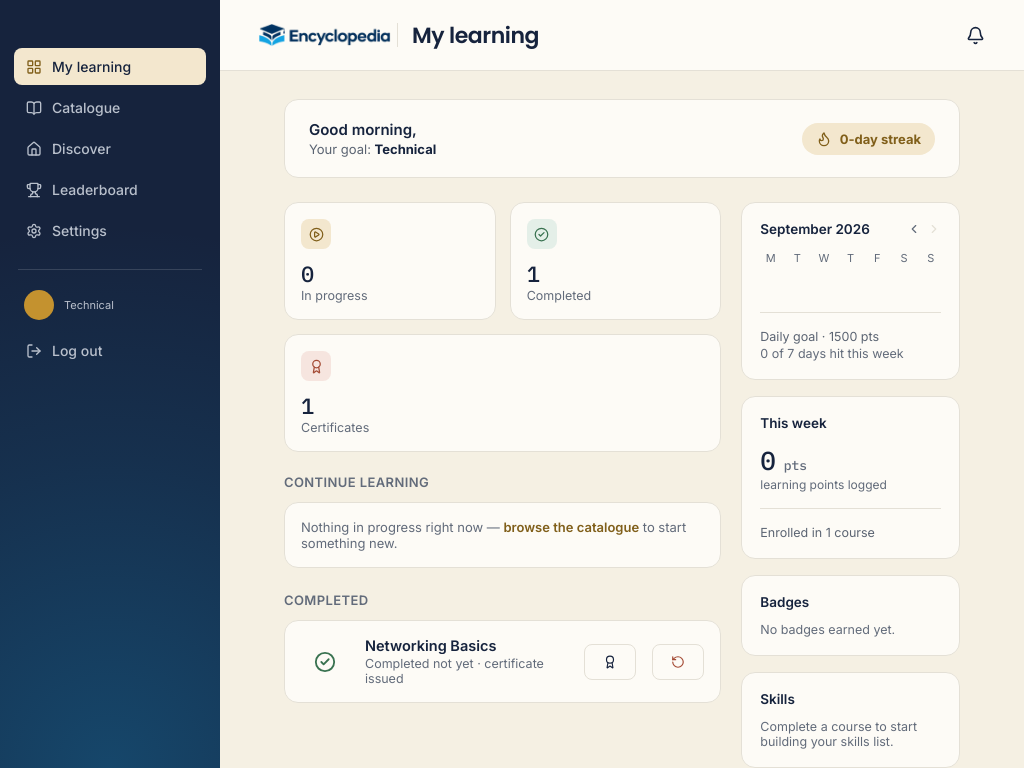
Test: App — retake handler (#300/#301) › surfaces the server's error message and leaves the dialog open on failure
Click the button named "Retake": (678, 662) [652, 644, 704, 680]
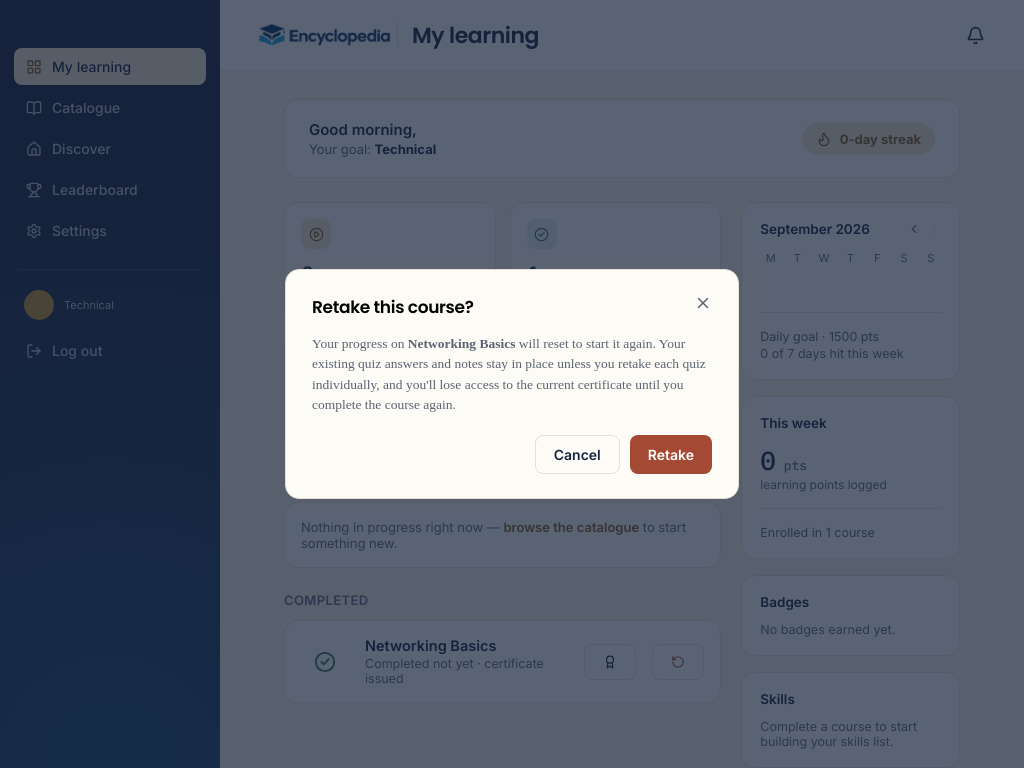
Click the button "Retake": (671, 454) [630, 435, 712, 474]
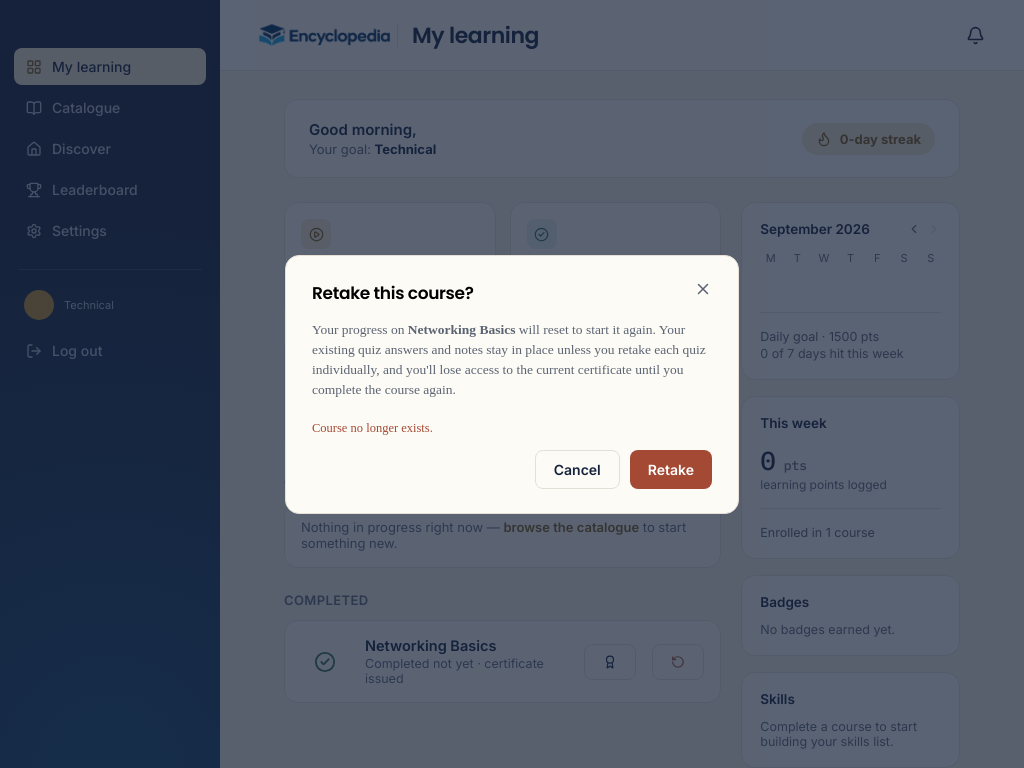
Result: the dialog is shown at [285, 254, 739, 514]
Result: the text "Course no longer exists." is shown at [312, 420, 433, 434]
